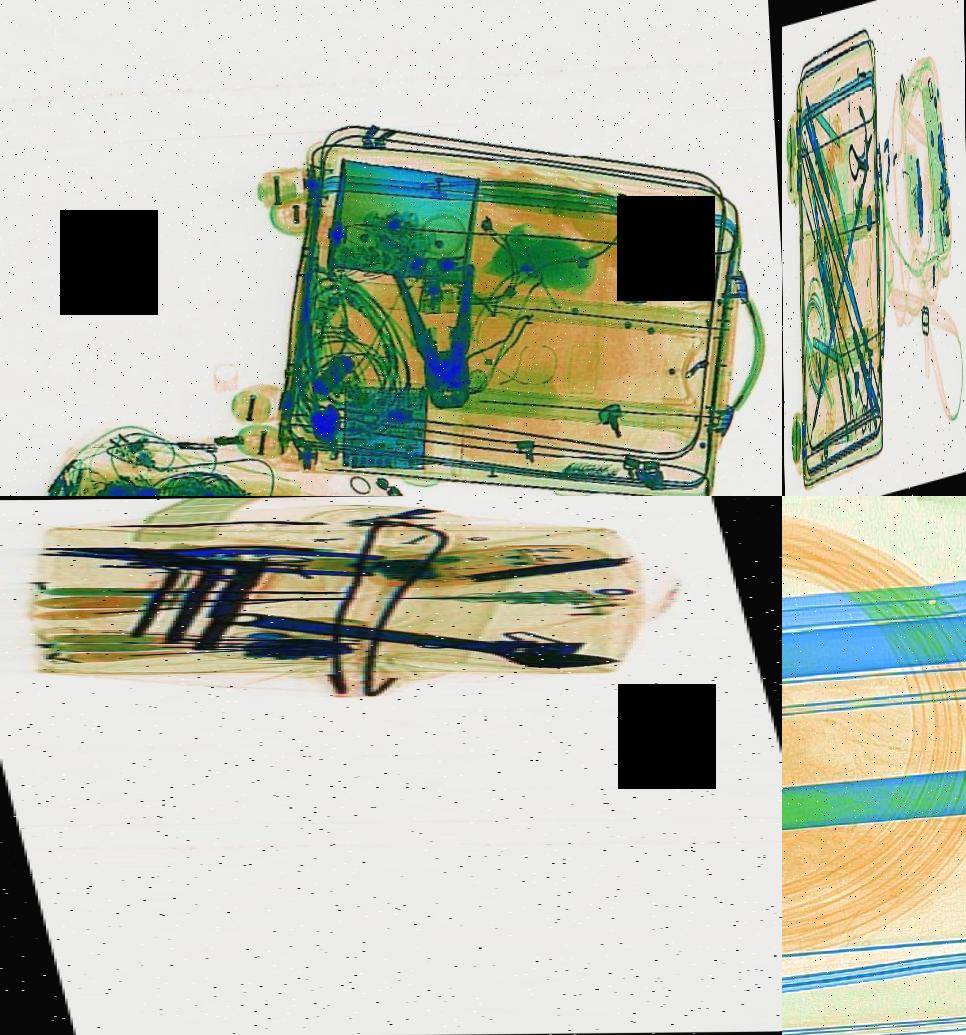Pliers: (40, 528, 324, 579), (396, 262, 491, 412), (800, 83, 832, 209)
Scissors: (860, 348, 880, 439)
Wrench: (222, 597, 630, 679)
